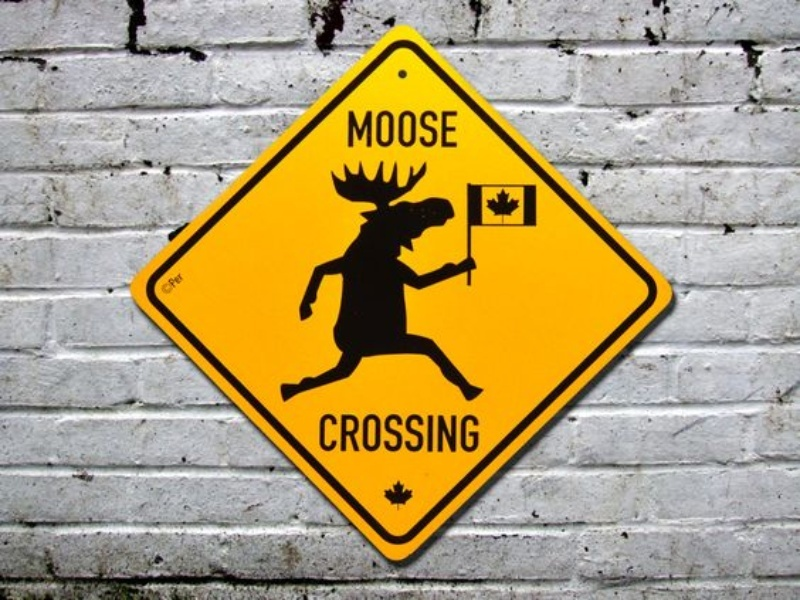text: (465, 413, 481, 453), (321, 413, 336, 453), (337, 413, 352, 453), (353, 413, 368, 453), (369, 413, 384, 453), (385, 413, 400, 453), (401, 413, 416, 453), (417, 413, 432, 453), (433, 413, 448, 453), (449, 413, 464, 453), (353, 110, 368, 148), (369, 110, 384, 148), (385, 110, 400, 148), (401, 110, 416, 148), (417, 110, 432, 148), (433, 110, 448, 148), (449, 110, 461, 148), (166, 273, 176, 290), (348, 110, 352, 148), (177, 273, 185, 290)
